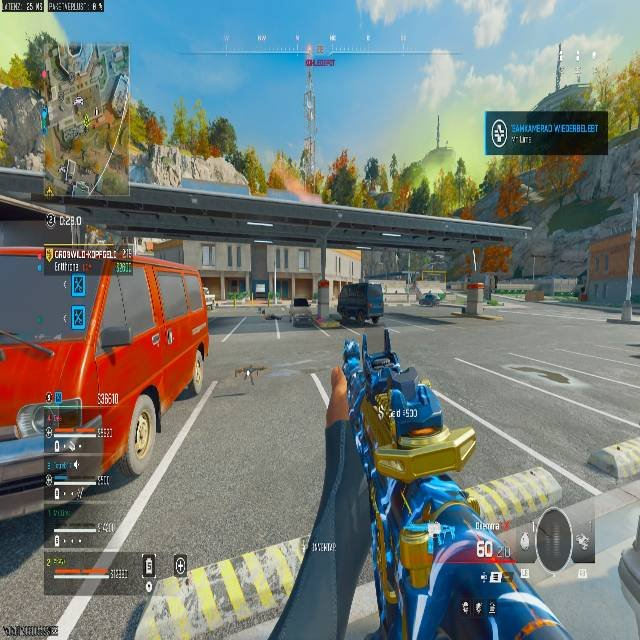head: (342, 337, 363, 361)
player: (63, 439, 75, 451)
